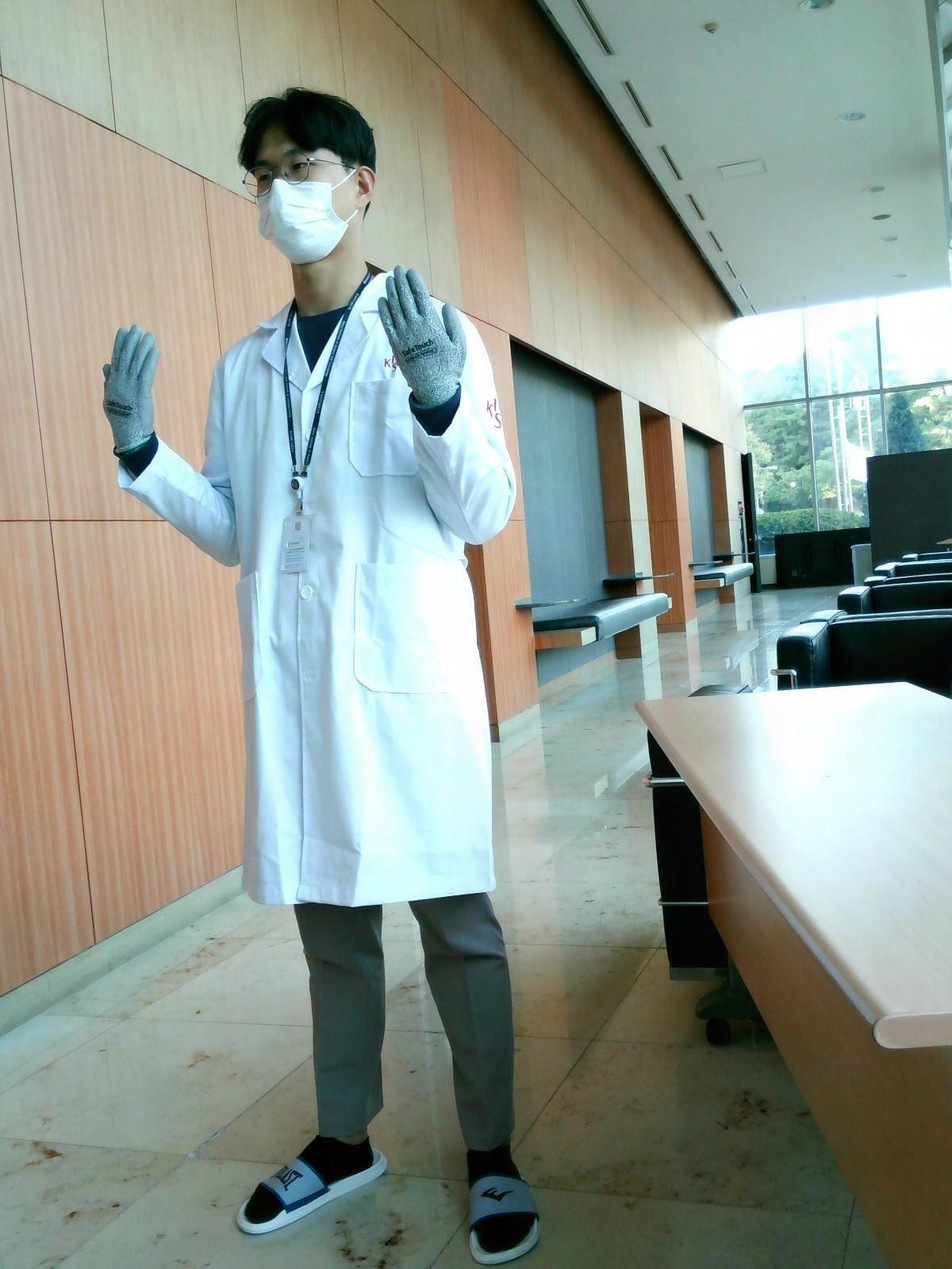Lab_coat: (116, 271, 517, 909)
